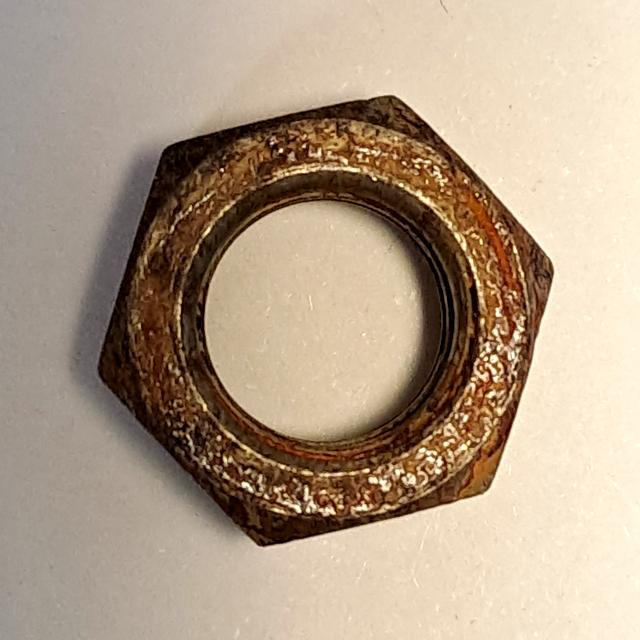Rust: (87, 83, 563, 557)
